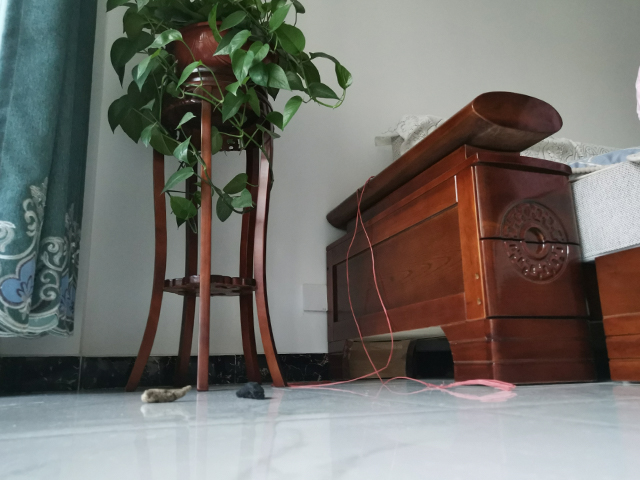curtain: (1, 1, 98, 341)
feces: (138, 384, 191, 405), (233, 380, 269, 400)
sofa: (322, 87, 640, 388)
